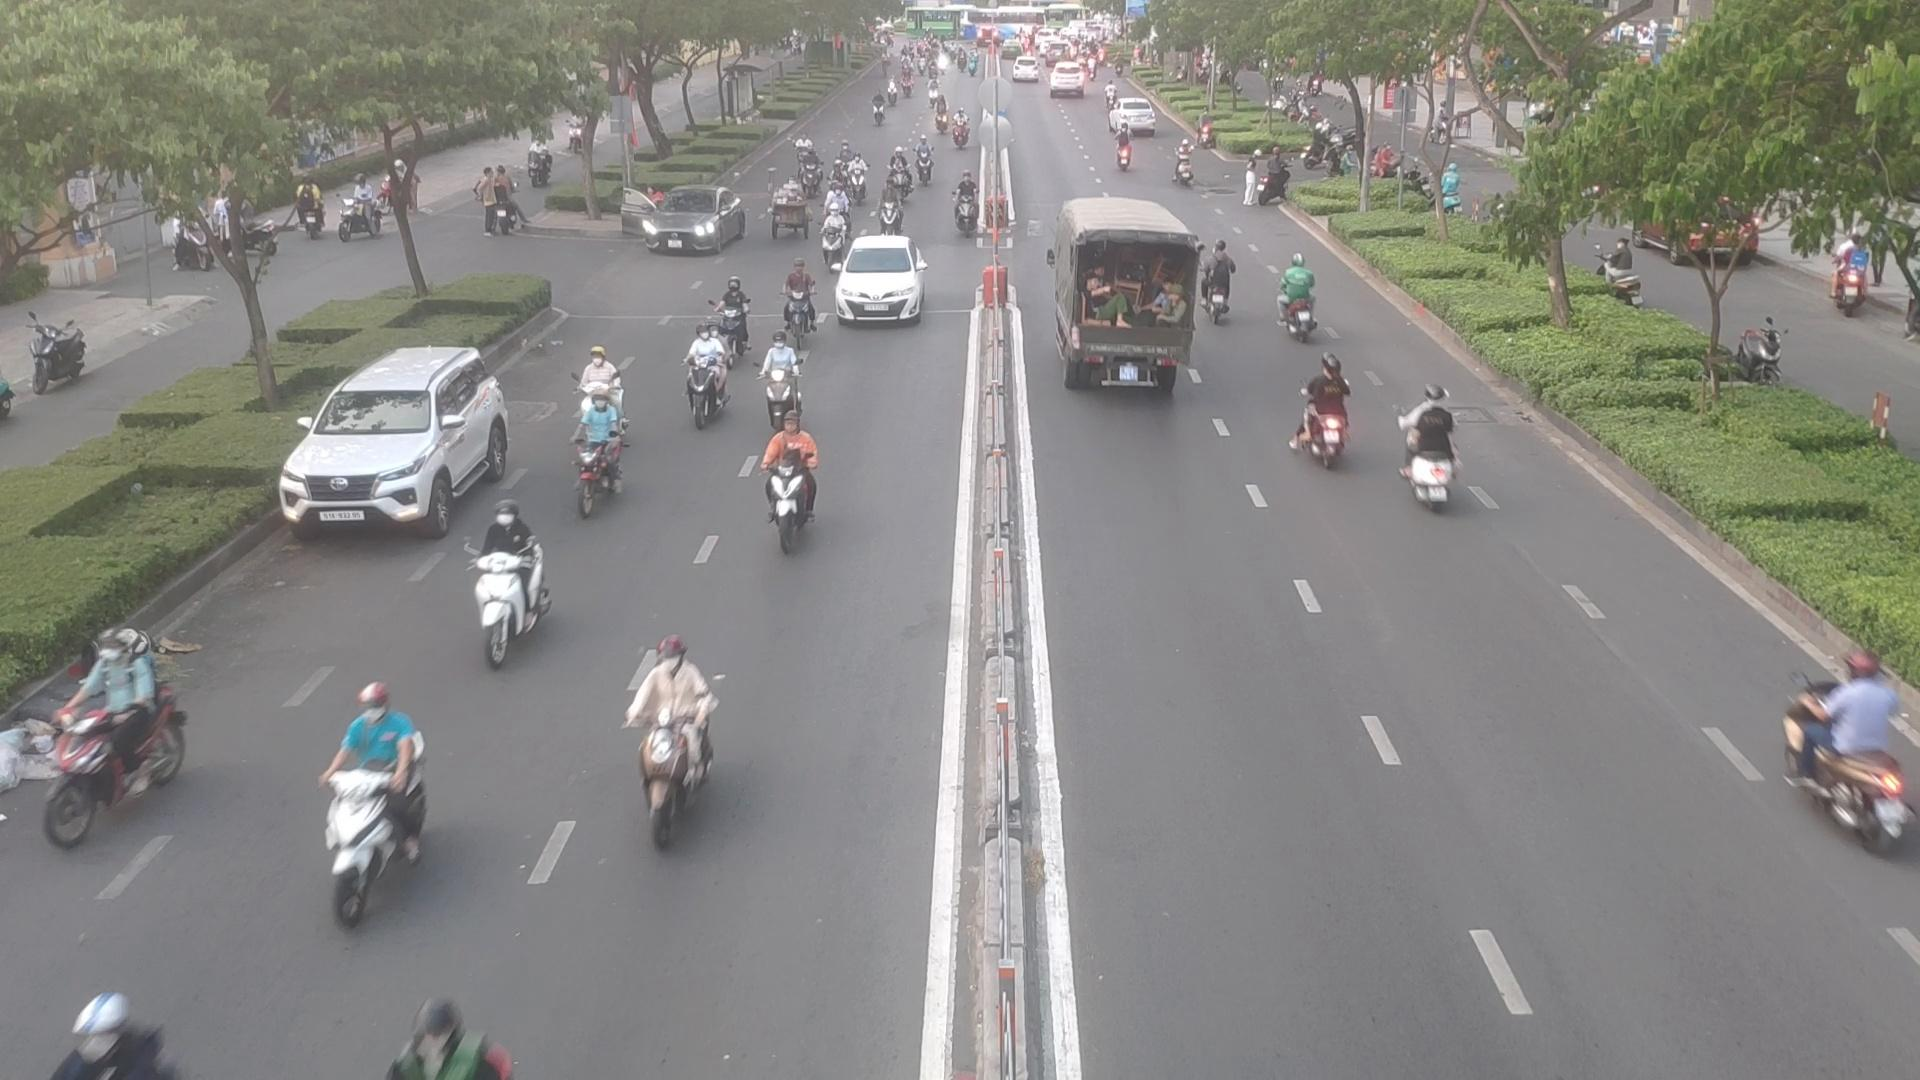car: (286, 349, 521, 541), (620, 191, 752, 258), (833, 243, 930, 330)
motorbike: (5, 626, 189, 841), (1764, 641, 1920, 849), (323, 690, 440, 920), (622, 642, 721, 845), (448, 504, 559, 658), (381, 1000, 516, 1080), (750, 422, 831, 549), (1398, 396, 1468, 506), (1291, 363, 1364, 462), (574, 393, 634, 508), (1269, 258, 1333, 347), (683, 338, 736, 429), (764, 340, 814, 413), (785, 262, 827, 342), (1204, 237, 1240, 326), (712, 280, 754, 353), (822, 212, 855, 265), (953, 189, 981, 236), (1105, 133, 1139, 171), (1168, 145, 1197, 189), (843, 156, 872, 198), (884, 160, 910, 200), (802, 156, 829, 194), (916, 148, 942, 186)
